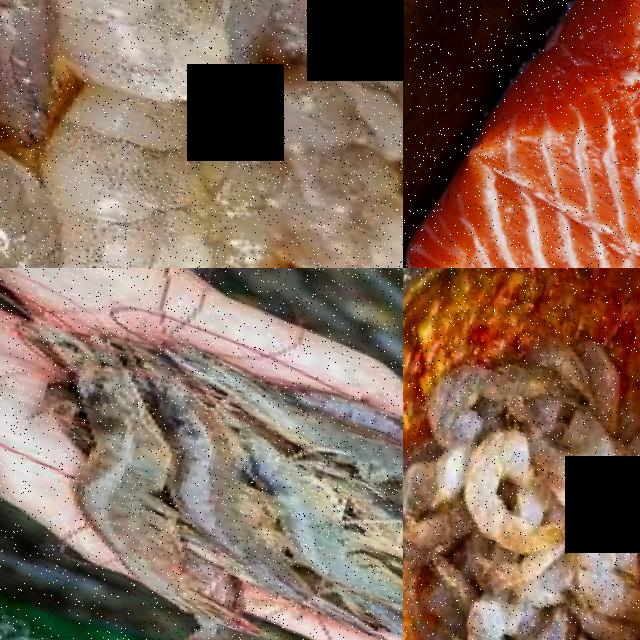salmon: (403, 0, 640, 268)
shrimp: (16, 339, 213, 571), (199, 435, 403, 608), (220, 382, 403, 552), (129, 386, 256, 542), (435, 416, 555, 554), (307, 475, 403, 640), (269, 370, 403, 482), (545, 502, 640, 631), (407, 348, 510, 454), (432, 578, 571, 640), (618, 454, 640, 574)
spinach: (34, 81, 309, 268), (244, 28, 403, 268), (18, 0, 328, 118), (0, 0, 105, 156), (0, 113, 93, 268)
